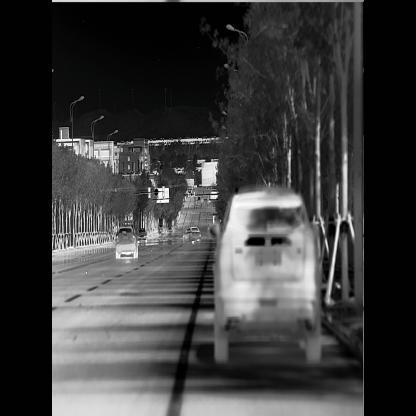car: (204, 182, 330, 373), (113, 222, 142, 261), (183, 224, 202, 245), (137, 226, 148, 245), (186, 184, 196, 198), (197, 194, 202, 202)
